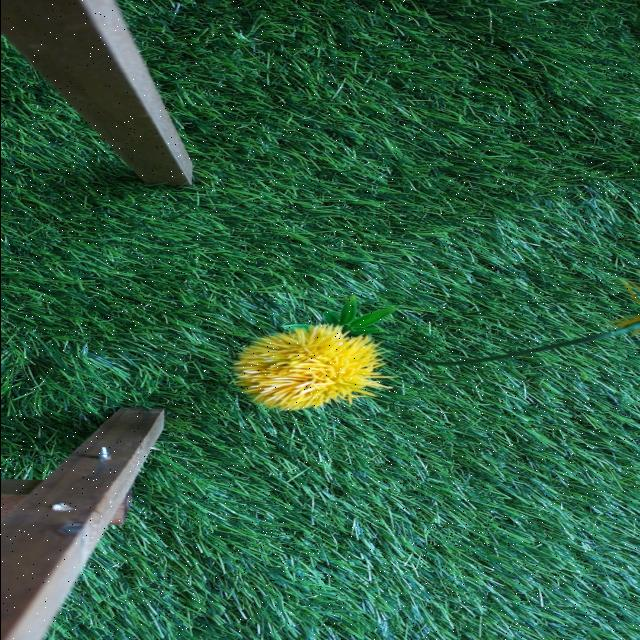base: (286, 302, 395, 348)
flower: (238, 328, 384, 412), (613, 284, 640, 336)
